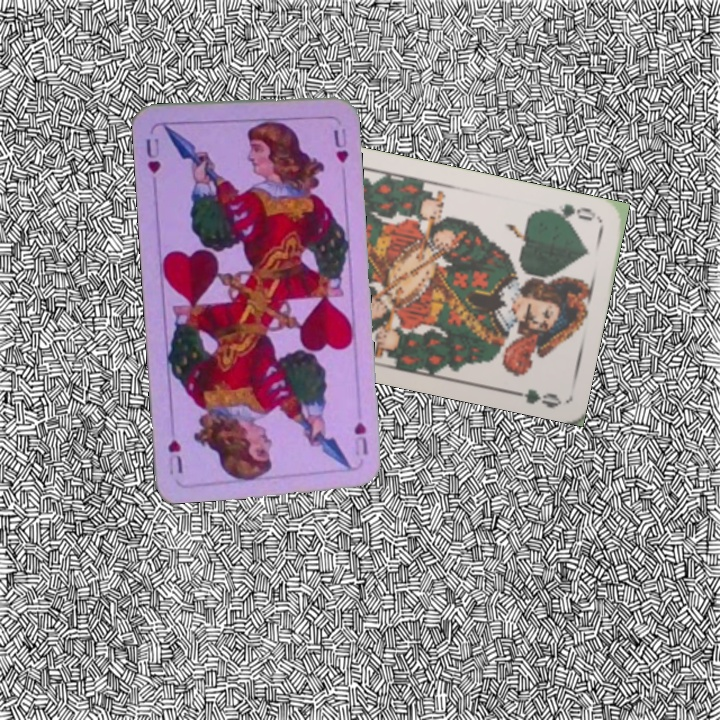GO: (541, 199, 601, 226)
HU: (142, 134, 163, 177), (350, 418, 371, 459)
